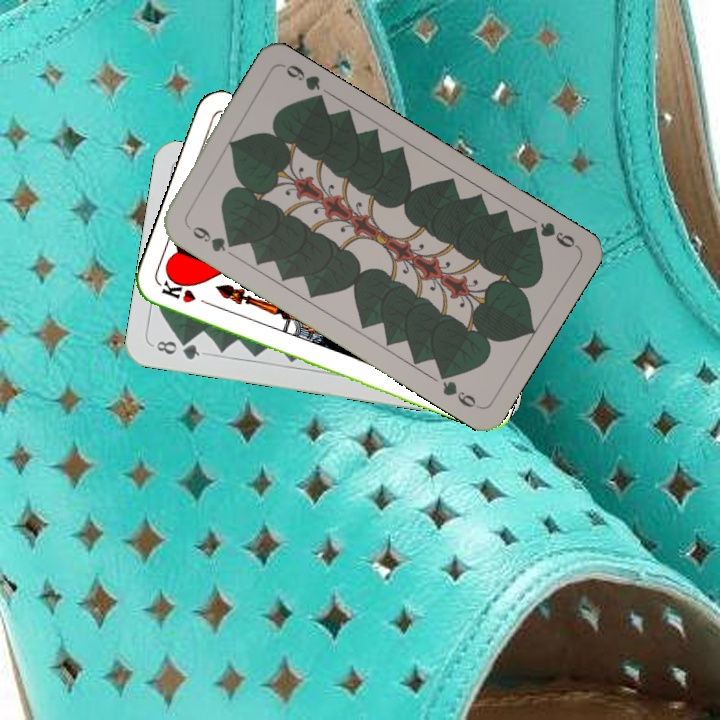G8: (152, 336, 203, 363)
G9: (182, 220, 239, 255), (521, 218, 580, 251)
HK: (157, 276, 215, 309)
